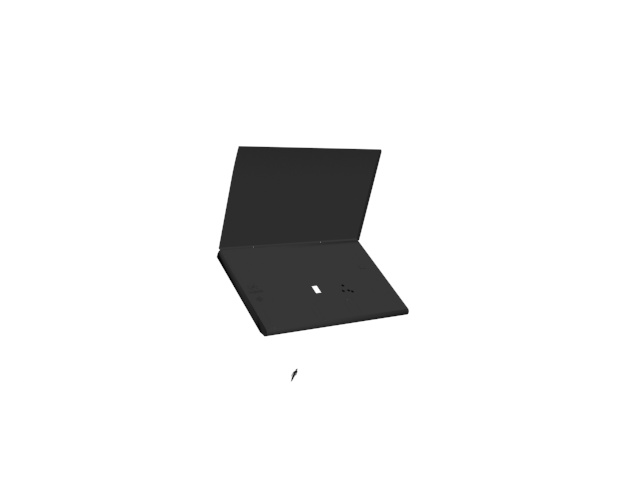laptop_computer: (217, 145, 416, 384)
